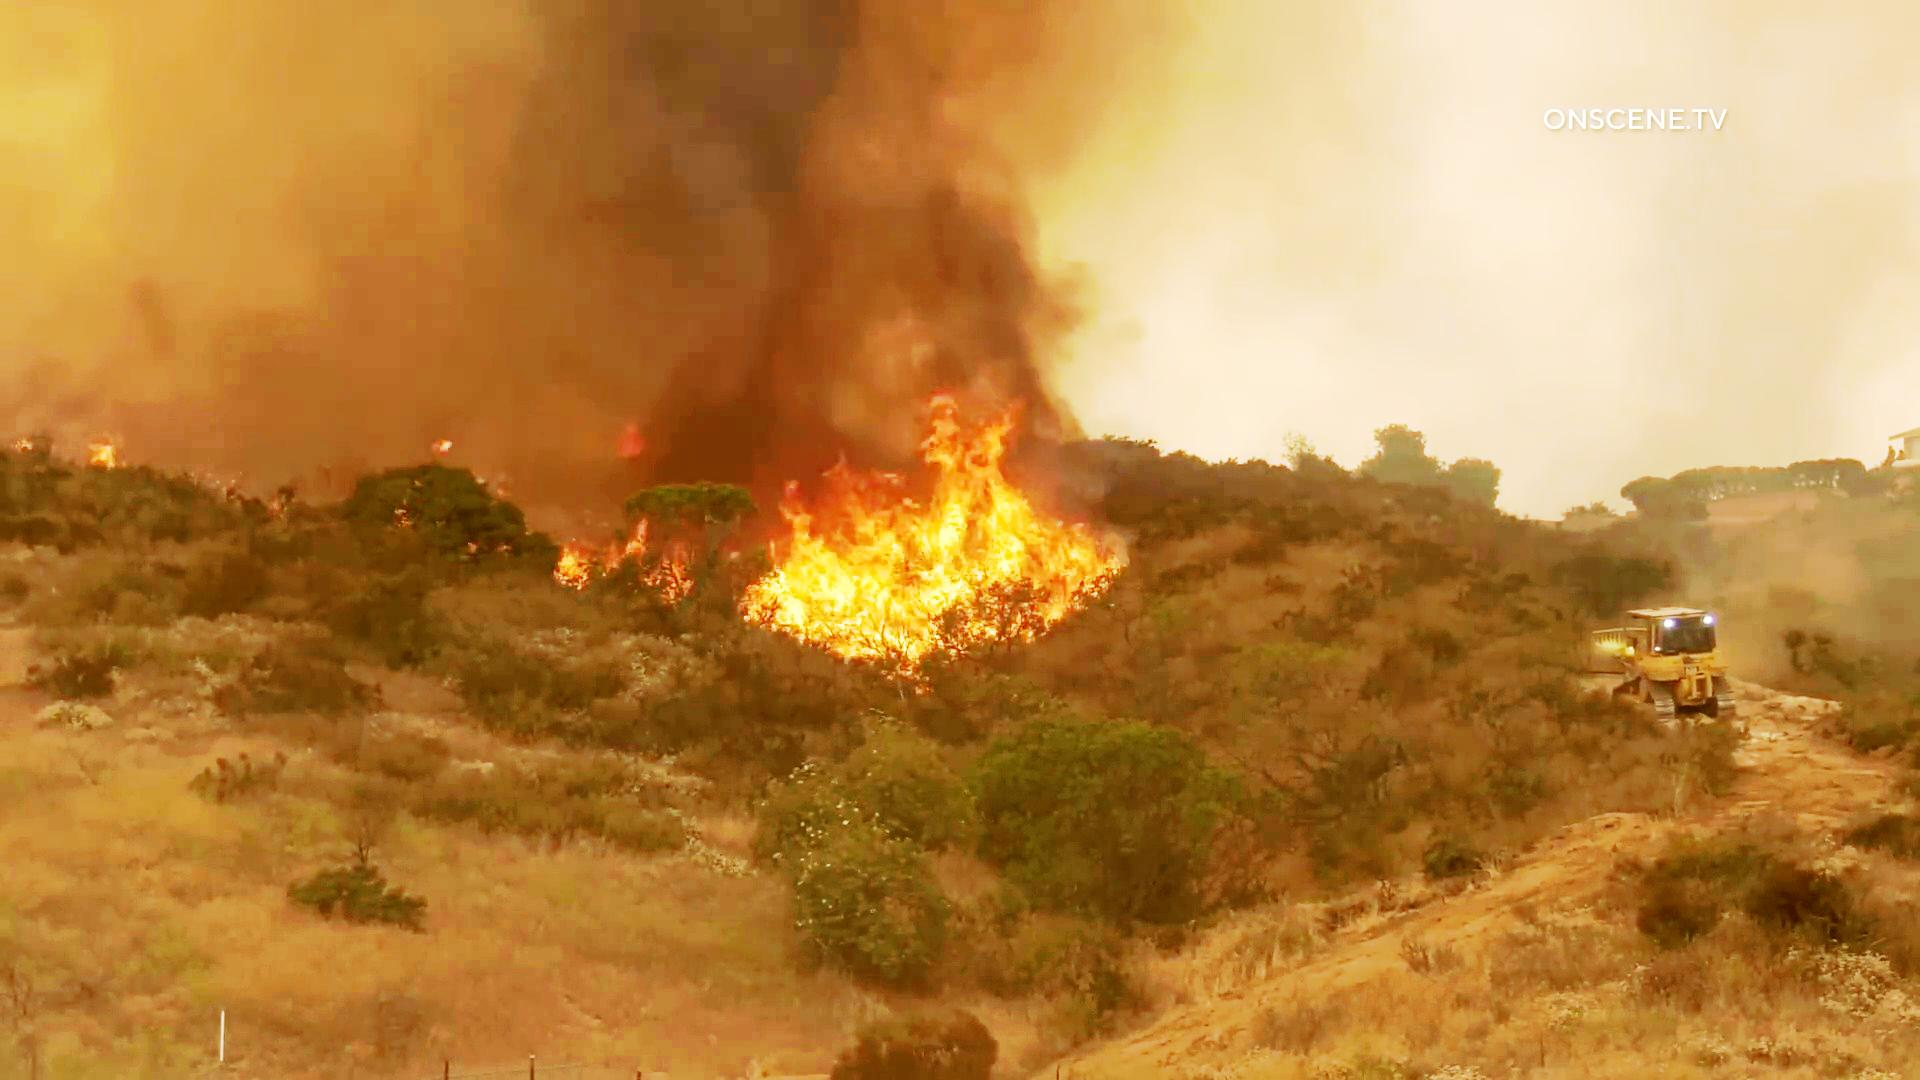fire: (745, 357, 1135, 662)
smoke: (535, 18, 819, 452)
